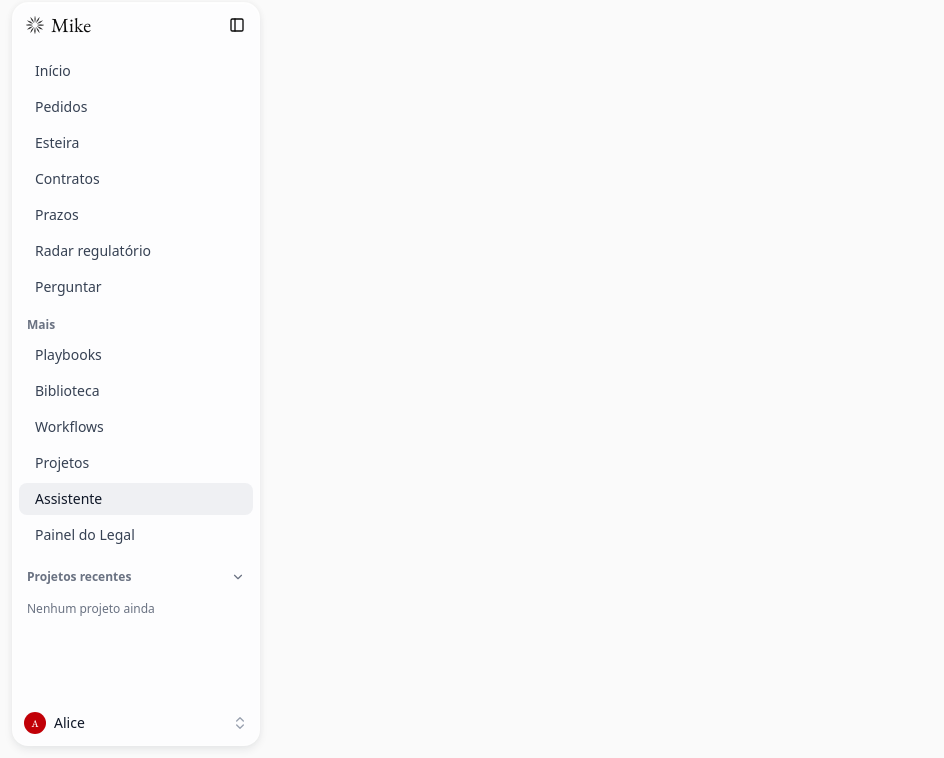
Test: AppSidebar failures › reports a failed sign-out with a Retry
Click the button "A Alice" at (136, 723), box x1=17 y1=705 x2=255 y2=741
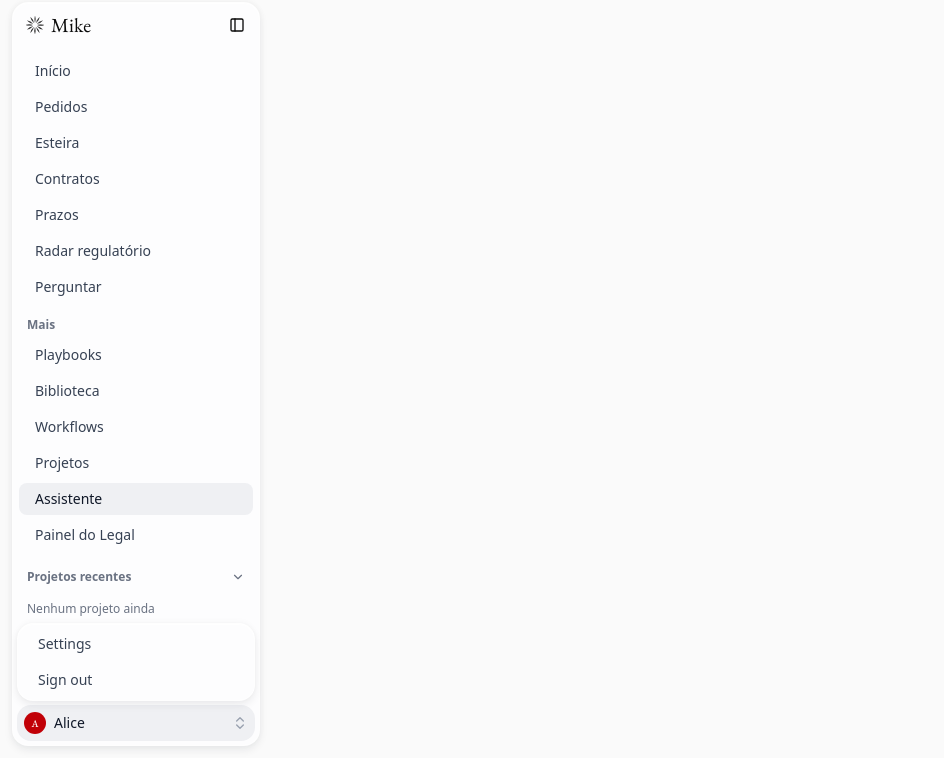
Click the menu item "Sign out" at (65, 680), box x1=38 y1=670 x2=92 y2=689
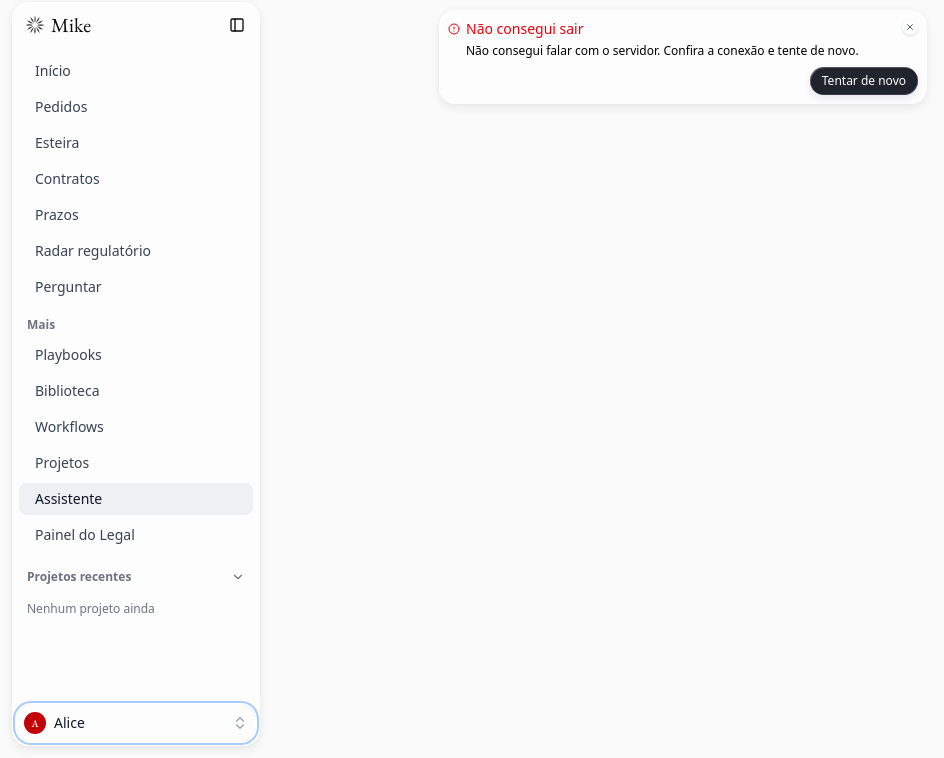
Result: the message shows "Não consegui sair" at x1=466 y1=19 x2=584 y2=38
Result: the button "Tentar de novo" is shown at x1=810 y1=67 x2=918 y2=95
